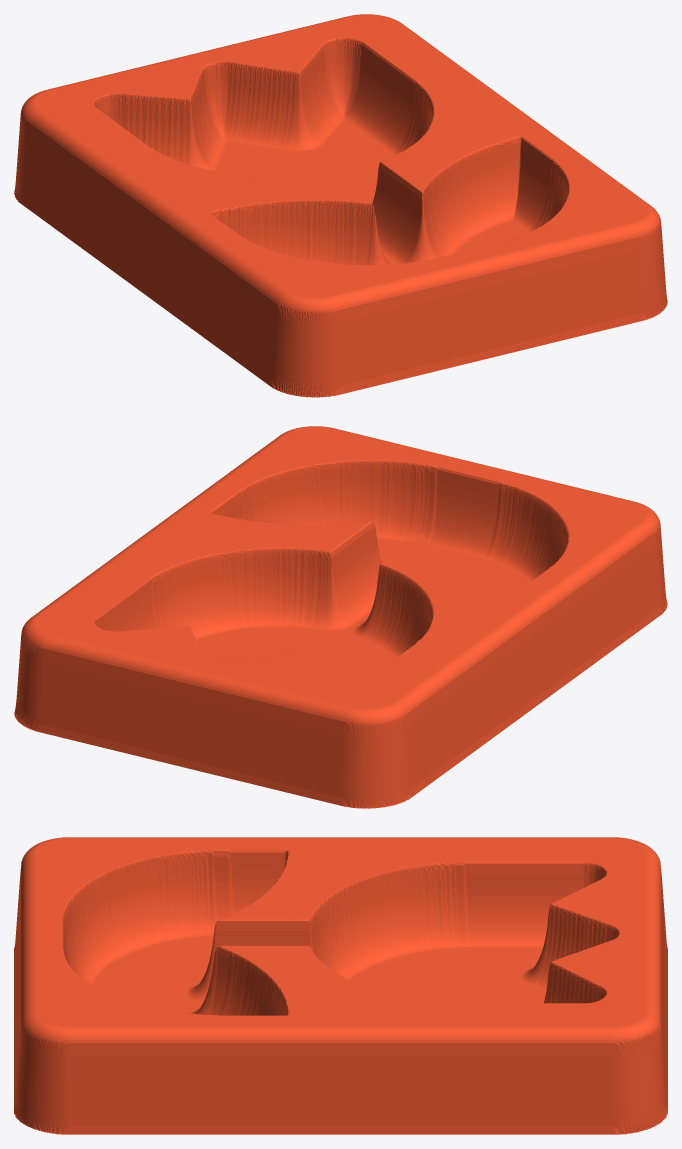
File: mold.glb
3 renders of one model, top to bottom at view 1: azimuth 30°, elevation 25°; view 2: azimuth 150°, elevation 25°; view 3: azimuth 270°, elevation 25°, orthographic. The views are drawn at different scales.
Visible parts, largest first — view 1: geometry_0; view 2: geometry_0; view 3: geometry_0.
Boxes of the visible parts, x1,y1,x2,y2 form: geometry_0: [14, 14, 667, 397]; geometry_0: [14, 426, 667, 808]; geometry_0: [14, 837, 667, 1134].
Size of the model in its own units: 0.0786 by 0.0175 by 0.105.
